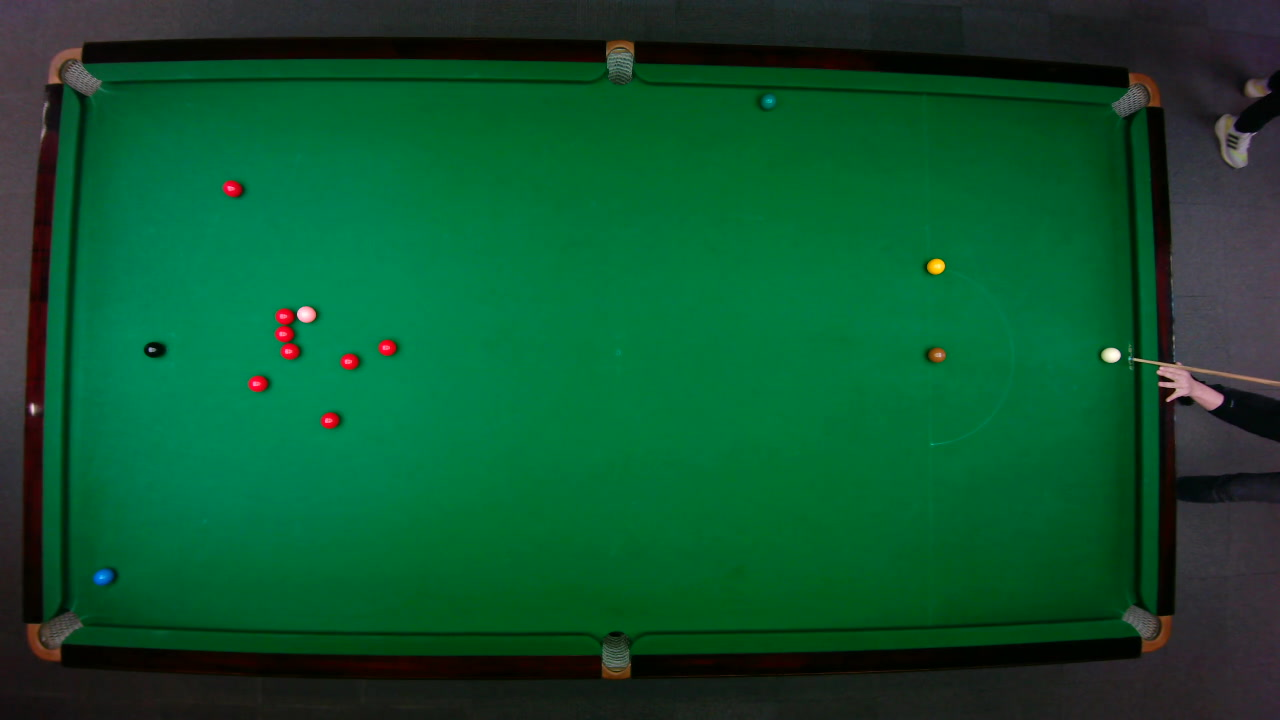bag: (24, 609, 84, 662), (45, 46, 102, 96), (1119, 603, 1172, 652), (1108, 71, 1161, 117), (600, 629, 630, 680), (605, 38, 633, 85)
black: (142, 340, 164, 358)
blue: (91, 567, 114, 585)
brown: (926, 346, 946, 362)
cue: (1127, 355, 1280, 389)
green: (758, 92, 776, 110)
pink: (294, 304, 317, 323)
red: (318, 410, 340, 429), (246, 374, 269, 392), (221, 179, 243, 197), (278, 342, 300, 360), (338, 351, 359, 369), (273, 306, 294, 324), (272, 325, 294, 342), (377, 338, 397, 356)
white: (1099, 345, 1121, 363)
yellow: (925, 257, 945, 274)
zone: (926, 267, 1013, 445)
